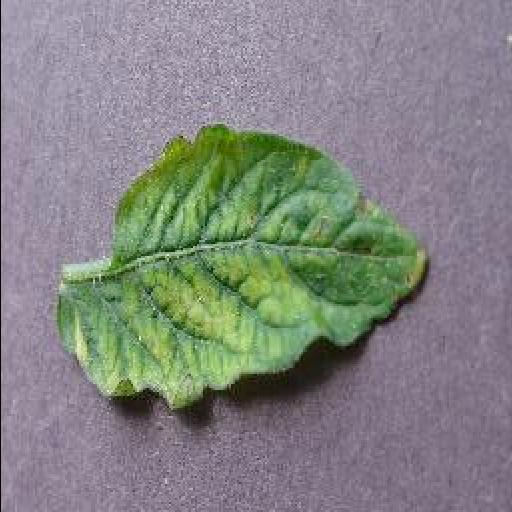disease_tomato: (56, 116, 430, 414)
